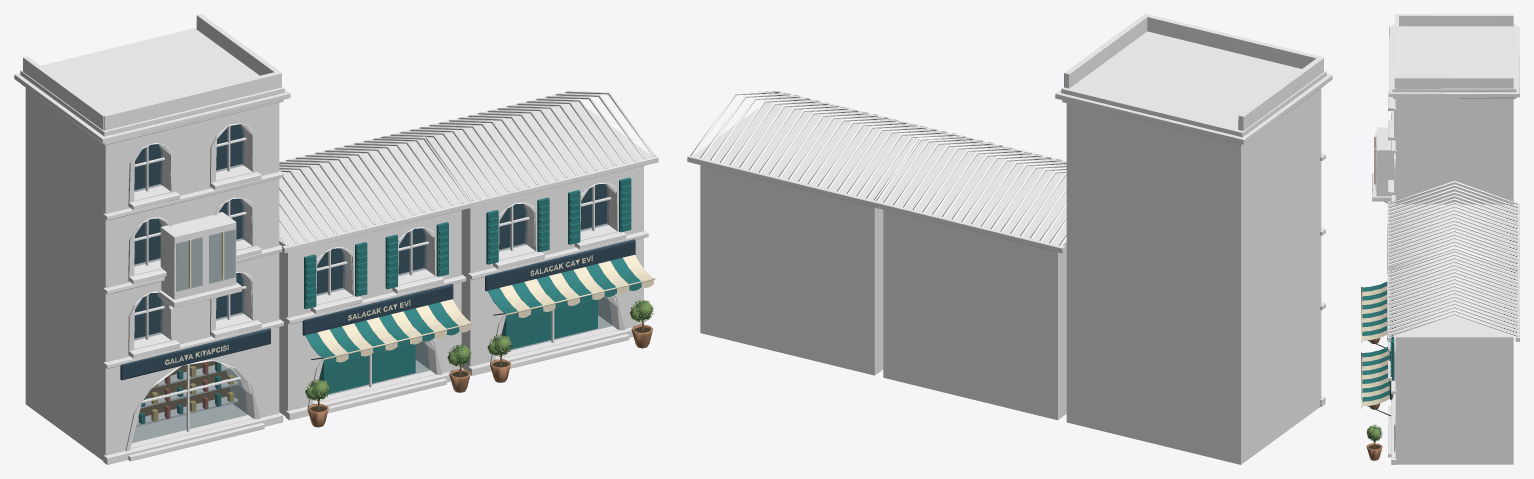
File: DistrictBlock_0_2_LOD1.glb
3 views of the same model, side by side, from view 1: azimuth 30°, elevation 25°; view 2: azimuth 150°, elevation 25°; view 3: azimuth 270°, elevation 25° (orthographic). The views are drawn at different scales.
Parts seen in each view (by area): view 1: RK_DistrictBlock_0_2_LOD1_LC_Lime, RK_DistrictBlock_0_2_LOD1_LC_Tile, RK_DistrictBlock_0_2_LOD1_LC_Cream, RK_DistrictBlock_0_2_LOD1_LC_Glass, RK_DistrictBlock_0_2_LOD1_LC_Wood, RK_DistrictBlock_0_2_LOD1_LC_Teal, RK_DistrictBlock_0_2_LOD1_LC_Ink, RK_DistrictBlock_0_2_LOD1_LC_Canvas, RK_DistrictBlock_0_2_LOD1_LC_Interior, RK_DistrictBlock_0_2_LOD1_RK_Terracotta, RK_DistrictBlock_0_2_LOD1_RK_Leaf, RK_DistrictBlock_0_2_LOD1_RK_LeafDark; view 2: RK_DistrictBlock_0_2_LOD1_LC_Lime, RK_DistrictBlock_0_2_LOD1_LC_Cream, RK_DistrictBlock_0_2_LOD1_LC_Tile, RK_DistrictBlock_0_2_LOD1_LC_Wood; view 3: RK_DistrictBlock_0_2_LOD1_LC_Lime, RK_DistrictBlock_0_2_LOD1_LC_Tile, RK_DistrictBlock_0_2_LOD1_LC_Cream, RK_DistrictBlock_0_2_LOD1_LC_Wood, RK_DistrictBlock_0_2_LOD1_LC_Canvas, RK_DistrictBlock_0_2_LOD1_LC_Teal, RK_DistrictBlock_0_2_LOD1_RK_Terracotta.
Part boxes in pixels (x1=…): RK_DistrictBlock_0_2_LOD1_LC_Lime: x1=14, y1=14, x2=648, y2=464; RK_DistrictBlock_0_2_LOD1_LC_Tile: x1=279, y1=91, x2=655, y2=246; RK_DistrictBlock_0_2_LOD1_LC_Cream: x1=279, y1=166, x2=643, y2=416; RK_DistrictBlock_0_2_LOD1_LC_Glass: x1=132, y1=124, x2=611, y2=442; RK_DistrictBlock_0_2_LOD1_LC_Wood: x1=130, y1=92, x2=658, y2=448; RK_DistrictBlock_0_2_LOD1_LC_Teal: x1=139, y1=177, x2=641, y2=423; RK_DistrictBlock_0_2_LOD1_LC_Ink: x1=120, y1=124, x2=635, y2=380; RK_DistrictBlock_0_2_LOD1_LC_Canvas: x1=165, y1=231, x2=655, y2=364; RK_DistrictBlock_0_2_LOD1_LC_Interior: x1=138, y1=361, x2=230, y2=417; RK_DistrictBlock_0_2_LOD1_RK_Terracotta: x1=307, y1=324, x2=652, y2=427; RK_DistrictBlock_0_2_LOD1_RK_Leaf: x1=305, y1=300, x2=653, y2=401; RK_DistrictBlock_0_2_LOD1_RK_LeafDark: x1=307, y1=300, x2=653, y2=401; RK_DistrictBlock_0_2_LOD1_LC_Lime: x1=1055, y1=14, x2=1332, y2=464; RK_DistrictBlock_0_2_LOD1_LC_Cream: x1=700, y1=165, x2=1066, y2=420; RK_DistrictBlock_0_2_LOD1_LC_Tile: x1=690, y1=91, x2=1066, y2=246; RK_DistrictBlock_0_2_LOD1_LC_Wood: x1=687, y1=91, x2=1066, y2=253; RK_DistrictBlock_0_2_LOD1_LC_Lime: x1=1372, y1=14, x2=1519, y2=464; RK_DistrictBlock_0_2_LOD1_LC_Tile: x1=1388, y1=181, x2=1518, y2=336; RK_DistrictBlock_0_2_LOD1_LC_Cream: x1=1395, y1=336, x2=1513, y2=464; RK_DistrictBlock_0_2_LOD1_LC_Wood: x1=1376, y1=127, x2=1519, y2=341; RK_DistrictBlock_0_2_LOD1_LC_Canvas: x1=1361, y1=136, x2=1389, y2=408; RK_DistrictBlock_0_2_LOD1_LC_Teal: x1=1362, y1=281, x2=1394, y2=401; RK_DistrictBlock_0_2_LOD1_RK_Terracotta: x1=1366, y1=338, x2=1382, y2=460.
Bounding box in the file's own units: 19.16 × 11.47 × 6.45.
